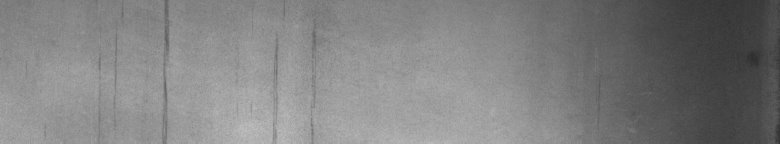ka: (99, 4, 172, 136)
